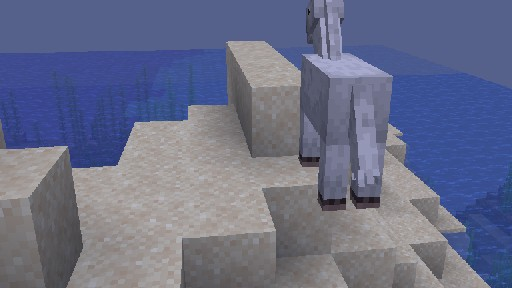horse: (297, 0, 393, 210)
